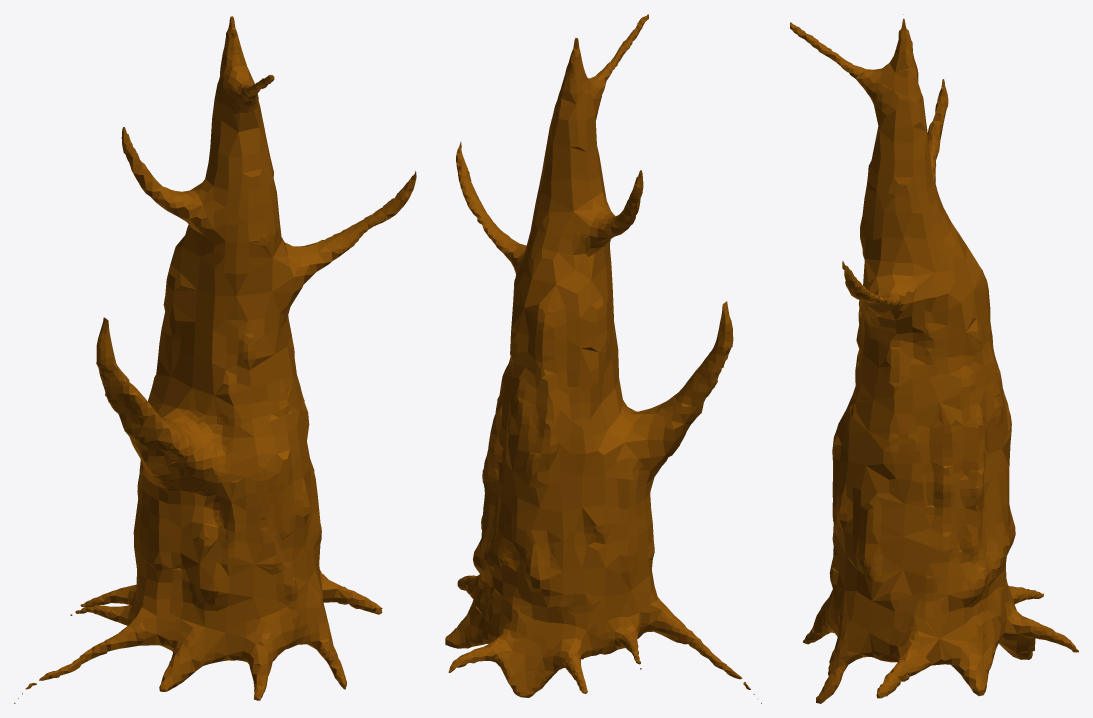
File: treeleaves.fbx
3 views of the same model, side by side, from view 1: azimuth 30°, elevation 25°; view 2: azimuth 150°, elevation 25°; view 3: azimuth 270°, elevation 25° (orthographic). The views are drawn at different scales.
Visible parts, largest first — view 1: Cylinder; view 2: Cylinder; view 3: Cylinder.
Part boxes in pixels (left/top/right/bottom): Cylinder: left=14, top=16, right=416, bottom=703; Cylinder: left=445, top=14, right=761, bottom=703; Cylinder: left=790, top=14, right=1078, bottom=703.
Size of the model in its own units: 472 by 826 by 331.
